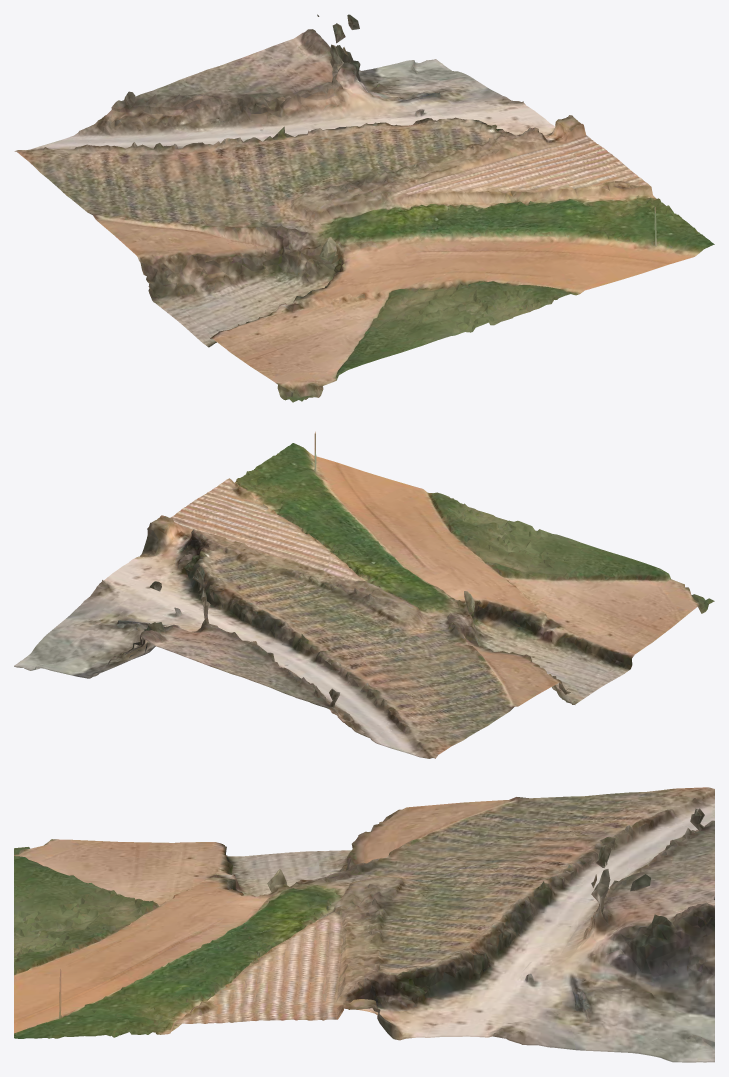
The model's file is BlockBYAA_L18_13.glb.
3 renders of one model, top to bottom at view 1: azimuth 30°, elevation 25°; view 2: azimuth 150°, elevation 25°; view 3: azimuth 270°, elevation 25°, orthographic. The views are drawn at different scales.
Parts seen in each view (by area): view 1: rtc; view 2: rtc; view 3: rtc.
Part boxes in pixels (x1=…): rtc: x1=14, y1=14, x2=714, y2=402; rtc: x1=14, y1=431, x2=714, y2=758; rtc: x1=14, y1=787, x2=714, y2=1062.
Size of the model in its own units: 60.61 by 19.98 by 69.4.
Materials: 6 (6 with a texture image).
